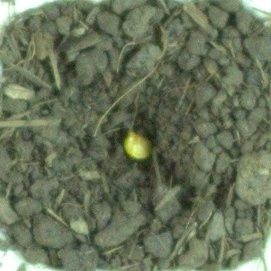pepper seed: (45, 50, 198, 210)
